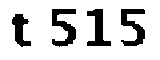1: (85, 6, 112, 51)
5: (46, 4, 77, 51), (120, 6, 148, 50)
t: (9, 12, 33, 49)
